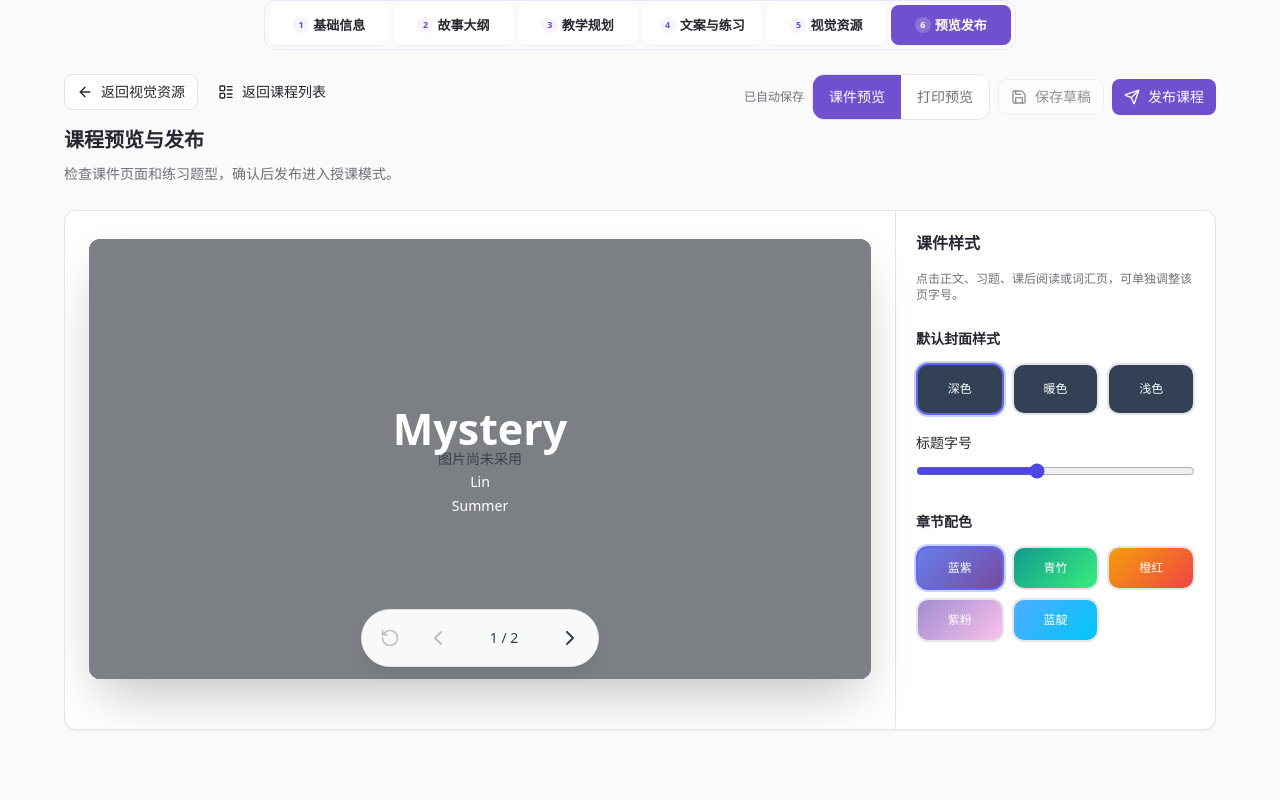
Scenario: CoursePreviewWorkspace › keeps highlighted answer spacing and expands short reading text
Click the button named "下一页".
click(570, 638)  # box [548,616,592,660]
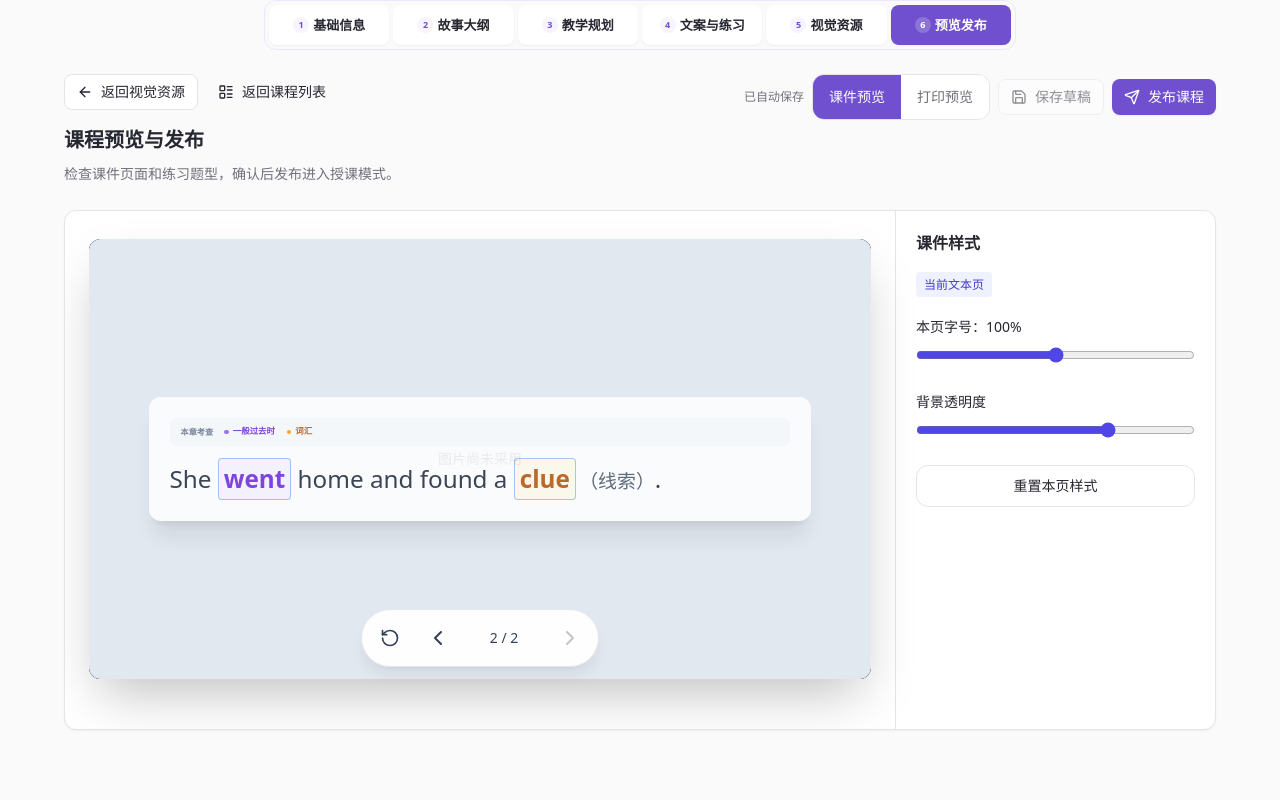
Expected: the text "went" is shown, [218,458,291,500]
